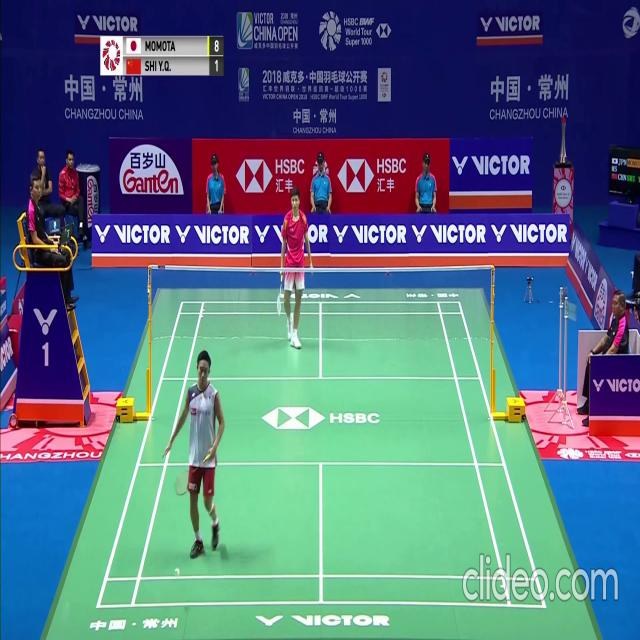Shuttlecock: (174, 568, 179, 576)
